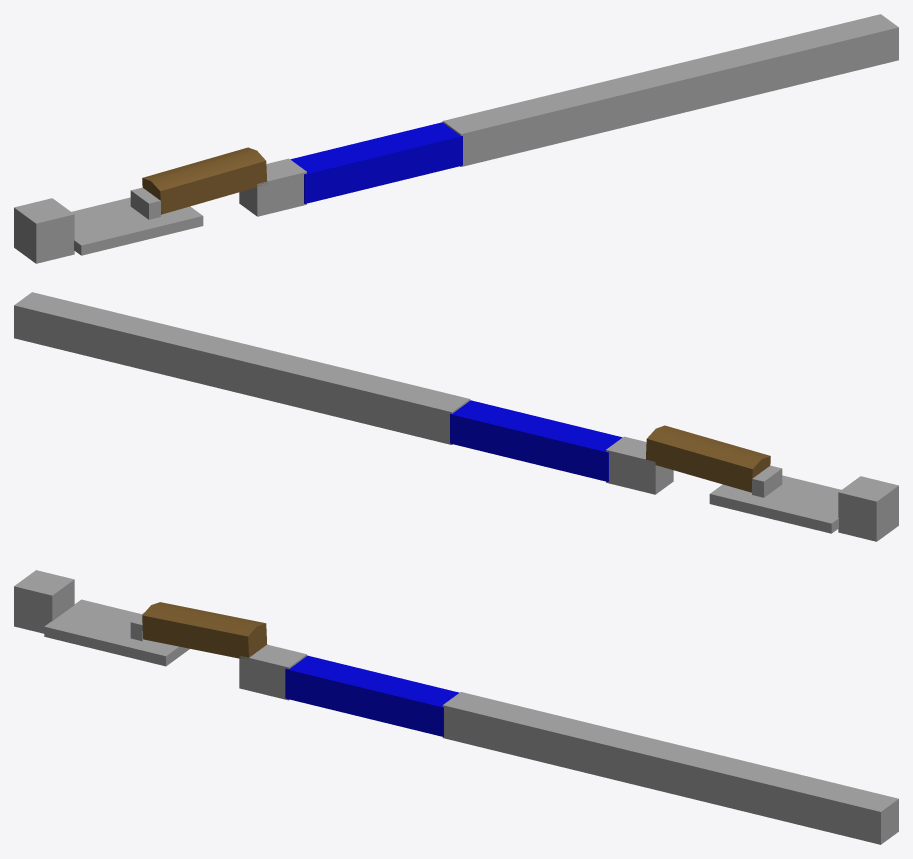
The model's file is v2_ground.fbx.
3 renders of one model, top to bottom at view 1: azimuth 30°, elevation 25°; view 2: azimuth 150°, elevation 25°; view 3: azimuth 330°, elevation 25°, orthographic.
Parts seen in each view (by area): view 1: polySurface37; view 2: polySurface37; view 3: polySurface37.
Part boxes in pixels (x1,y1,x2,y2): polySurface37: (14, 14, 898, 263); polySurface37: (14, 292, 898, 541); polySurface37: (14, 570, 898, 844).
Bounding box in the file's own units: 88.98 × 5.65 × 6.61.
